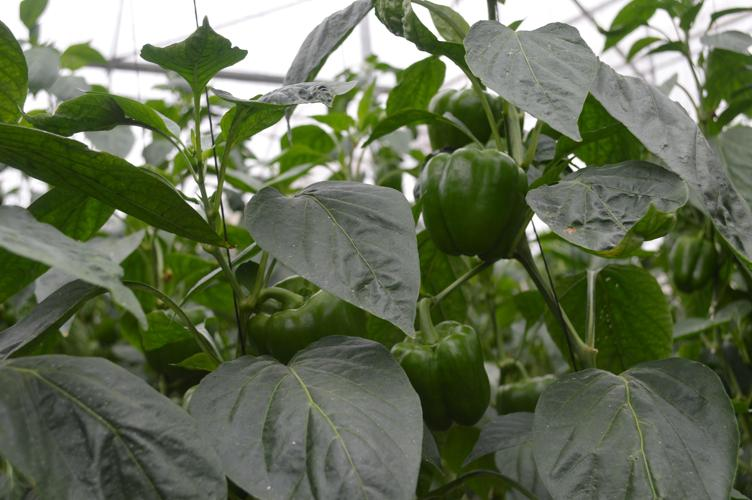BellPepper: (409, 152, 542, 249), (239, 273, 373, 367), (387, 326, 500, 429), (422, 85, 514, 158), (673, 221, 725, 296)
